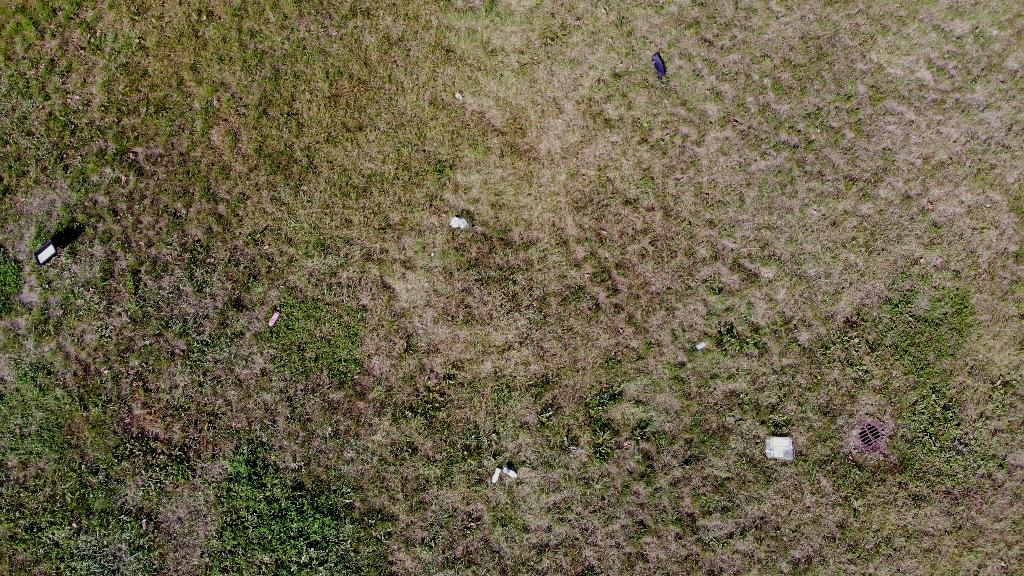garbage: (765, 434, 794, 464), (651, 51, 673, 87), (446, 214, 471, 236), (500, 463, 521, 481), (491, 466, 505, 486)
